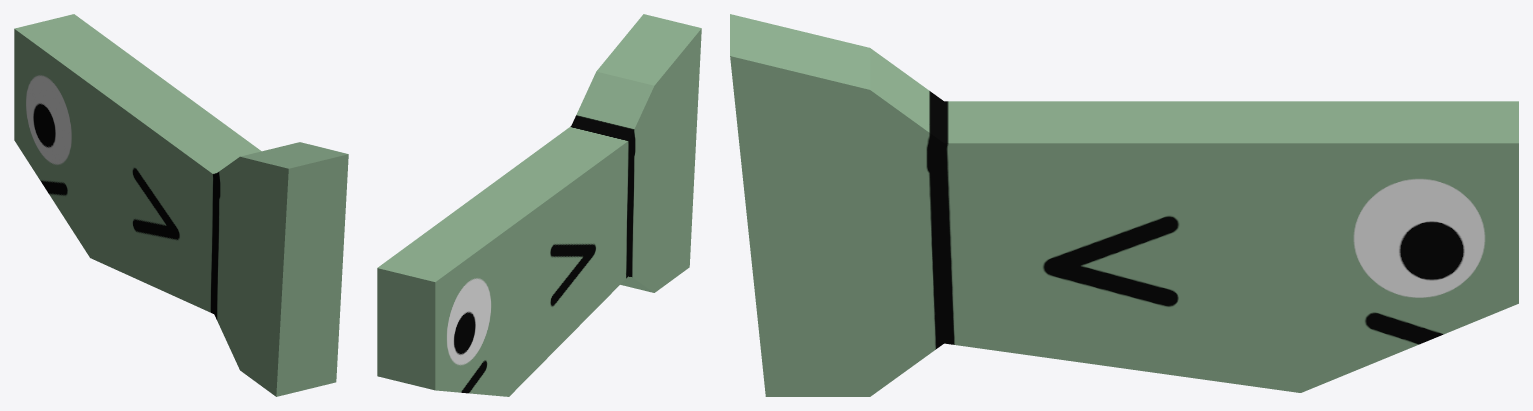
The model's file is fish.fbx.
3 views of the same model, side by side, from view 1: azimuth 30°, elevation 25°; view 2: azimuth 150°, elevation 25°; view 3: azimuth 270°, elevation 25° (orthographic). The views are drawn at different scales.
Parts seen in each view (by area): view 1: Cube; view 2: Cube; view 3: Cube.
Part boxes in pixels (x1,y1,x2,y2): Cube: (14, 14, 348, 396); Cube: (377, 14, 701, 396); Cube: (730, 14, 1518, 396).
Size of the model in its own units: 20.17 by 76.26 by 160.
